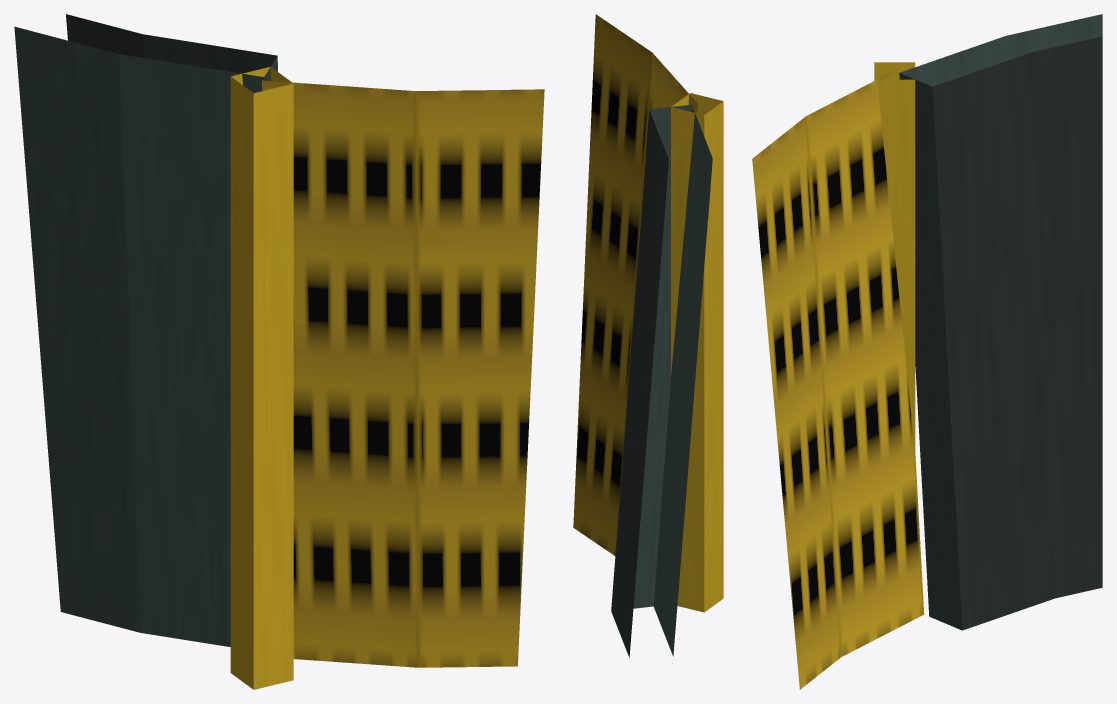
Rendered from cell_116.obj.
3 views of the same model, side by side, from view 1: azimuth 30°, elevation 25°; view 2: azimuth 150°, elevation 25°; view 3: azimuth 270°, elevation 25° (orthographic). The views are drawn at different scales.
Bounding box in the file's own units: 0.5846 × 1 × 0.5982.
